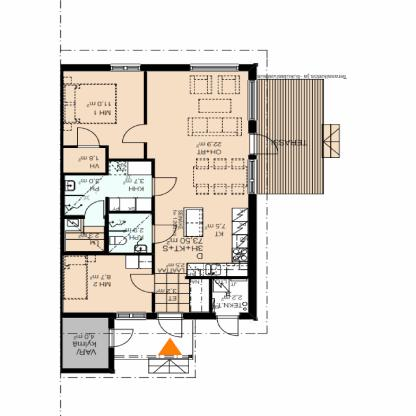door: (213, 310, 240, 337), (157, 314, 185, 339), (247, 134, 281, 154), (129, 274, 158, 294), (108, 328, 135, 346), (78, 126, 100, 148), (120, 125, 148, 142), (151, 177, 179, 194), (152, 225, 179, 242), (82, 201, 103, 218)
window: (189, 64, 239, 71), (247, 82, 256, 119), (112, 64, 140, 72), (248, 162, 254, 193), (116, 312, 146, 318)
zone: (154, 72, 251, 314), (64, 160, 154, 253), (253, 79, 321, 193), (62, 69, 145, 158), (62, 253, 152, 312), (62, 317, 107, 367), (61, 148, 105, 172), (322, 124, 339, 159)
